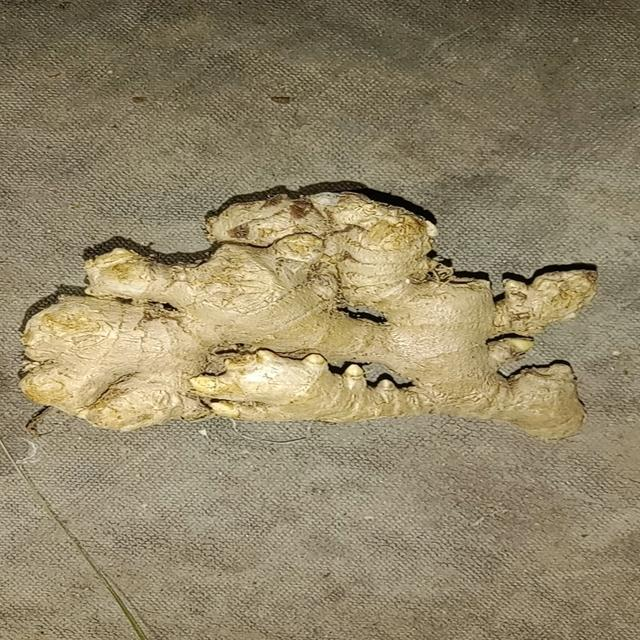ginger: (19, 194, 604, 438)
